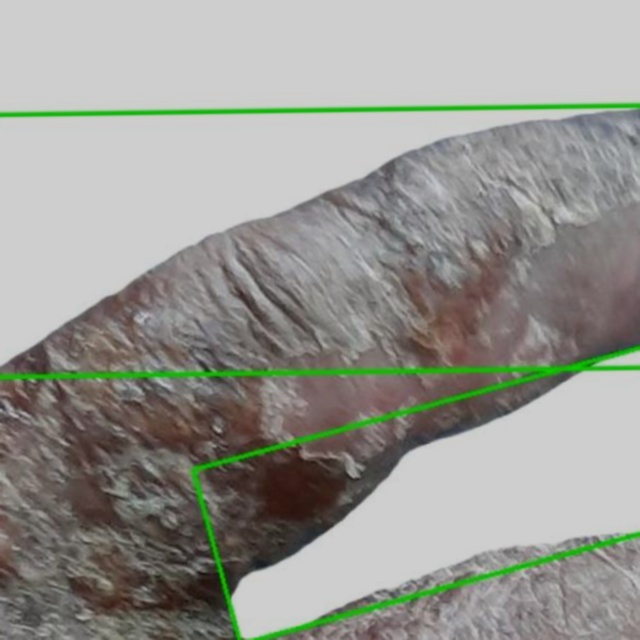Eczema: (0, 105, 639, 639), (0, 0, 639, 377), (187, 336, 639, 639)
